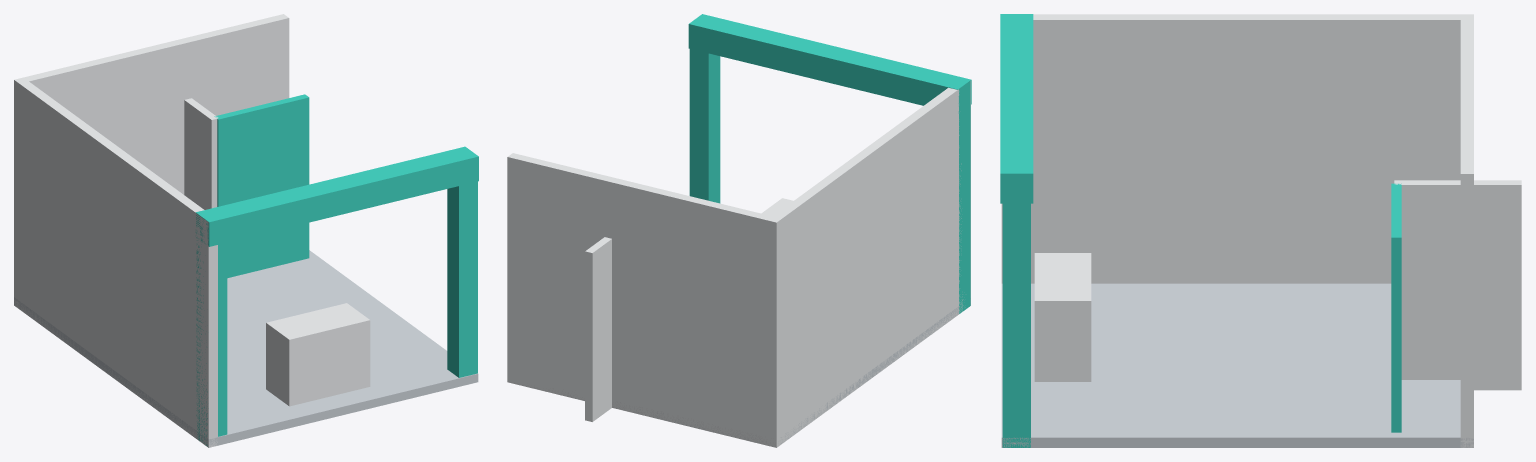
3 renders of one model, left to right at view 1: azimuth 30°, elevation 25°; view 2: azimuth 150°, elevation 25°; view 3: azimuth 270°, elevation 25°, orthographic. The views are drawn at different scales.
Visible parts, largest first — view 1: Exhibition Booth Concept; view 2: Exhibition Booth Concept; view 3: Exhibition Booth Concept.
Boxes of the visible parts, bbox=[...] form: Exhibition Booth Concept: bbox=[14, 14, 478, 447]; Exhibition Booth Concept: bbox=[507, 14, 971, 447]; Exhibition Booth Concept: bbox=[1000, 14, 1521, 447].
Bounding box in the file's own units: 4 × 3.2 × 5.52.
